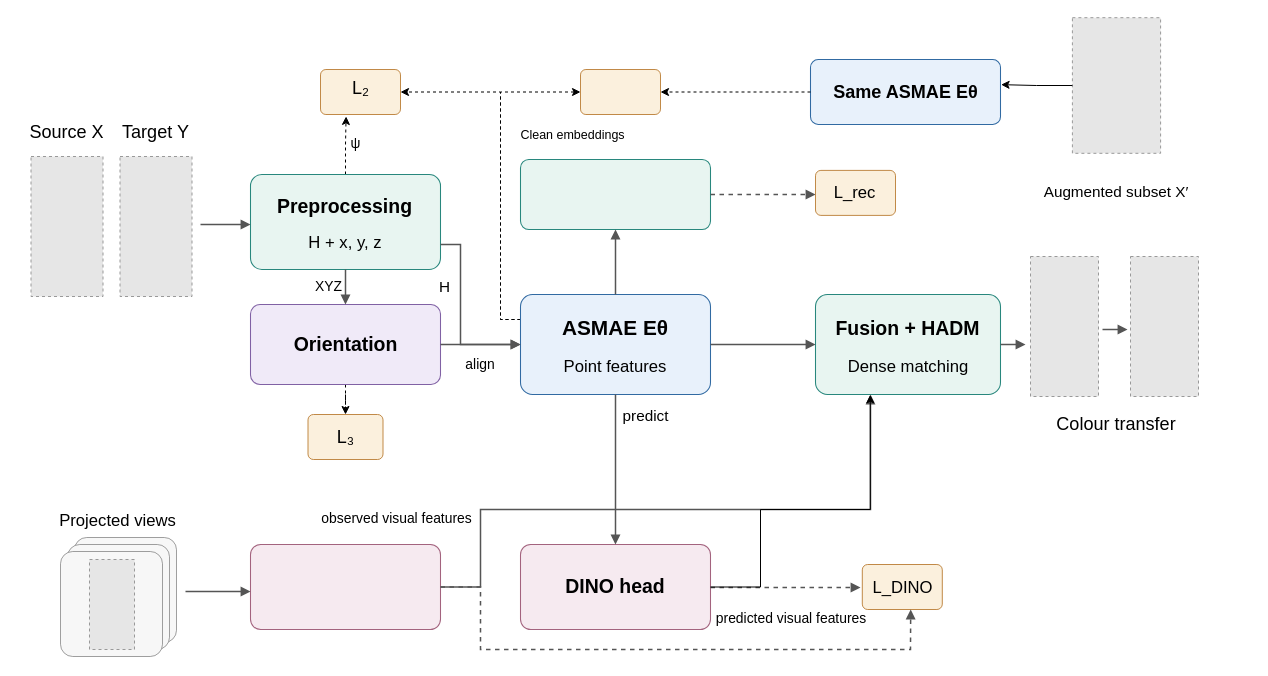
The diagram is 1268 pixels wide and 676 high, and some of its shapes have lost their labels. Grey dashed boxes stand in for pictures. Here are the shapes that lost their labels. From the top down, the centre of each, then its label:
At pixel 620 91: "L₁".
At pixel 615 194: "Cross-decoder".
At pixel 345 587: "Frozen DINOv2".
